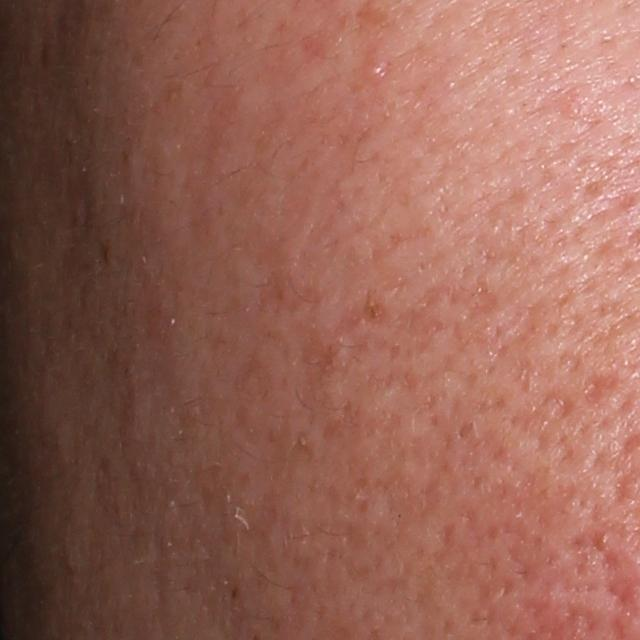atrophic_scar: (586, 531, 636, 607), (584, 372, 620, 406)
comedo: (360, 55, 392, 78)
